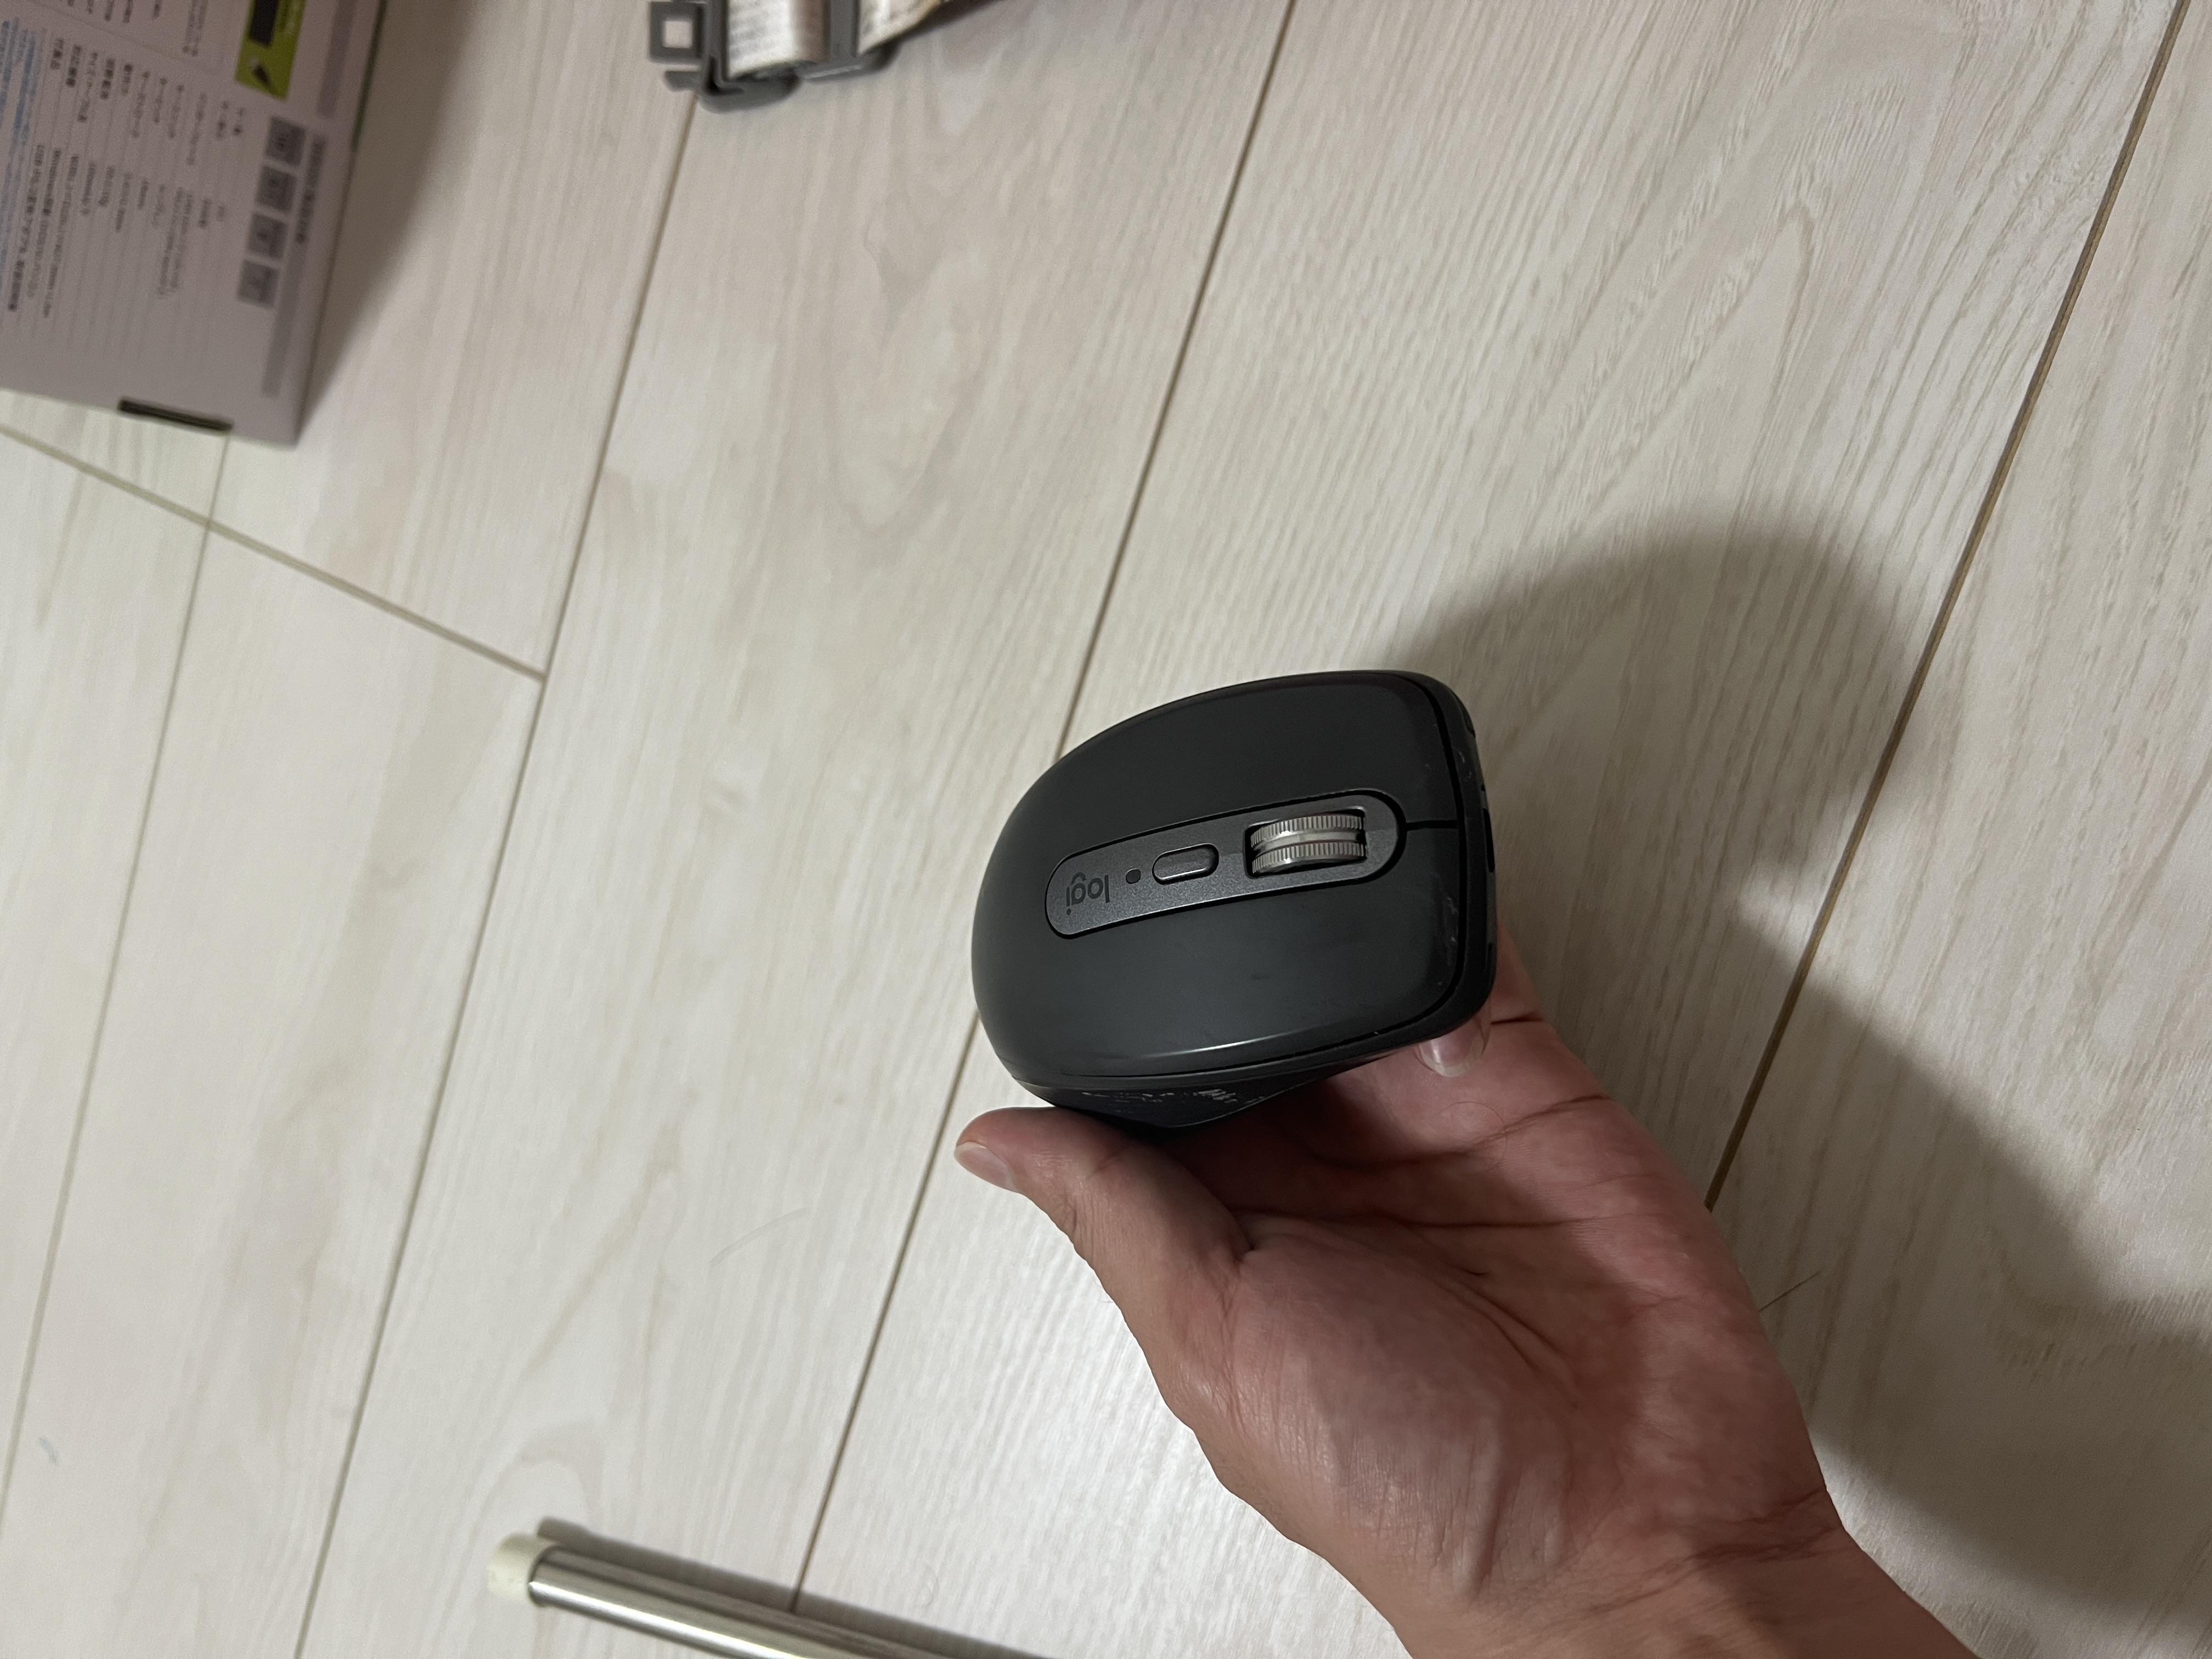mouse: (745, 732, 1343, 1127)
